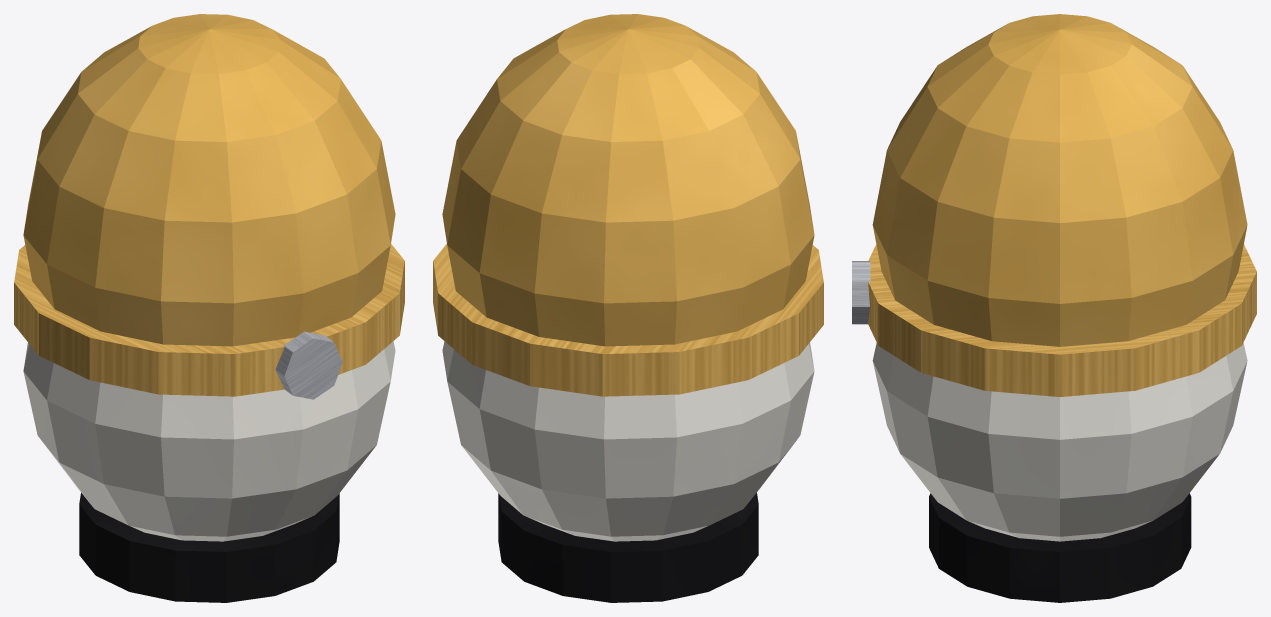
Rendered from mdl_capsula_oro.fbx.
The picture shows the model from 3 angles, left to right: view 1: azimuth 30°, elevation 25°; view 2: azimuth 150°, elevation 25°; view 3: azimuth 270°, elevation 25°; orthographic projection.
Parts seen in each view (by area): view 1: metal_oro_pulido, esmalte_blanco, metal_oro_cepillado, esmalte_negro, metal_acero; view 2: metal_oro_pulido, esmalte_blanco, metal_oro_cepillado, esmalte_negro; view 3: metal_oro_pulido, esmalte_blanco, metal_oro_cepillado, esmalte_negro, metal_acero.
Part boxes in pixels (<box>): metal_oro_pulido: <box>23,14,395,346</box>; esmalte_blanco: <box>23,341,395,541</box>; metal_oro_cepillado: <box>14,244,404,396</box>; esmalte_negro: <box>79,492,339,602</box>; metal_acero: <box>275,331,342,399</box>; metal_oro_pulido: <box>442,14,814,346</box>; esmalte_blanco: <box>442,341,814,541</box>; metal_oro_cepillado: <box>433,244,823,396</box>; esmalte_negro: <box>498,492,758,602</box>; metal_oro_pulido: <box>872,14,1247,346</box>; esmalte_blanco: <box>872,343,1247,541</box>; metal_oro_cepillado: <box>868,244,1256,396</box>; esmalte_negro: <box>929,493,1191,602</box>; metal_acero: <box>852,261,870,324</box>.
Size of the model in its own units: 210 by 305 by 216.
